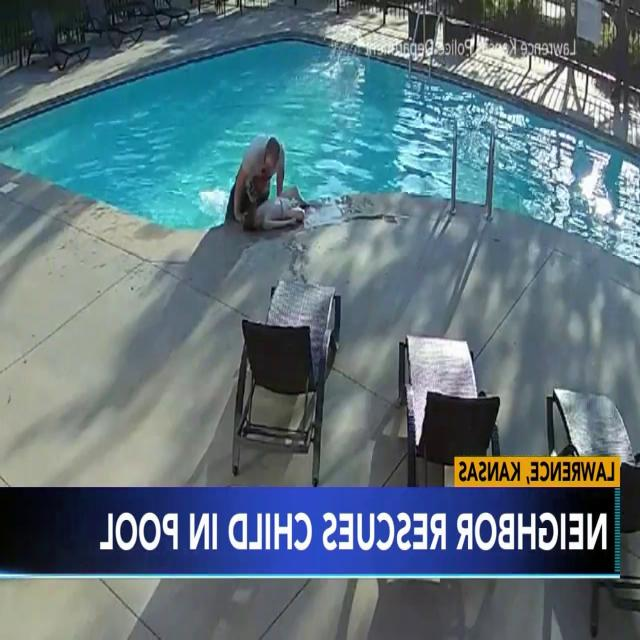adult: (221, 134, 285, 223)
child: (238, 185, 308, 233)
